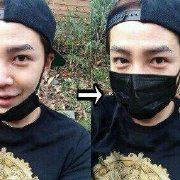OK: (108, 43, 180, 115)
WRONG: (1, 42, 43, 124)
